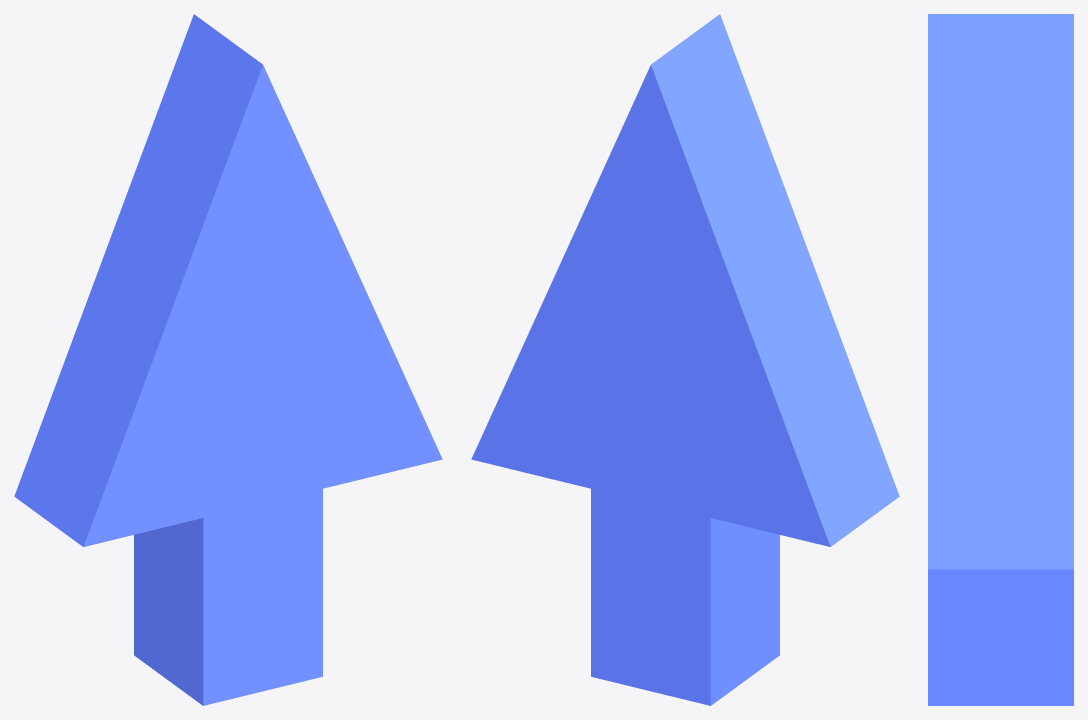
Rendered from anno_arrow_move_single.glb.
The picture shows the model from 3 angles, left to right: view 1: azimuth 30°, elevation 25°; view 2: azimuth 150°, elevation 25°; view 3: azimuth 270°, elevation 25°; orthographic projection. The views are drawn at different scales.
Parts seen in each view (by area): view 1: anno_arrow_move_single; view 2: anno_arrow_move_single; view 3: anno_arrow_move_single.
Boxes of the visible parts, x1,y1,x2,y2 form: anno_arrow_move_single: [14, 14, 442, 705]; anno_arrow_move_single: [471, 14, 899, 705]; anno_arrow_move_single: [928, 14, 1073, 705].
Size of the model in its own units: 0.06 by 0.1 by 0.02.
